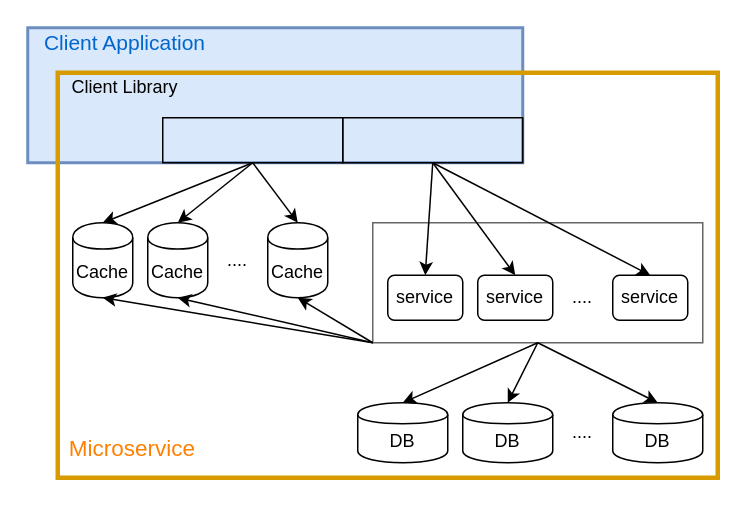
The diagram is 746 pixels wide and 506 high, and some of its shapes have lost their labels. The shapes that lost their labels are listed below. From the top down, each one's centre as x and y in pixels, then its label:
At pixel 252 139: "Cache Client".
At pixel 432 139: "Service Client".
